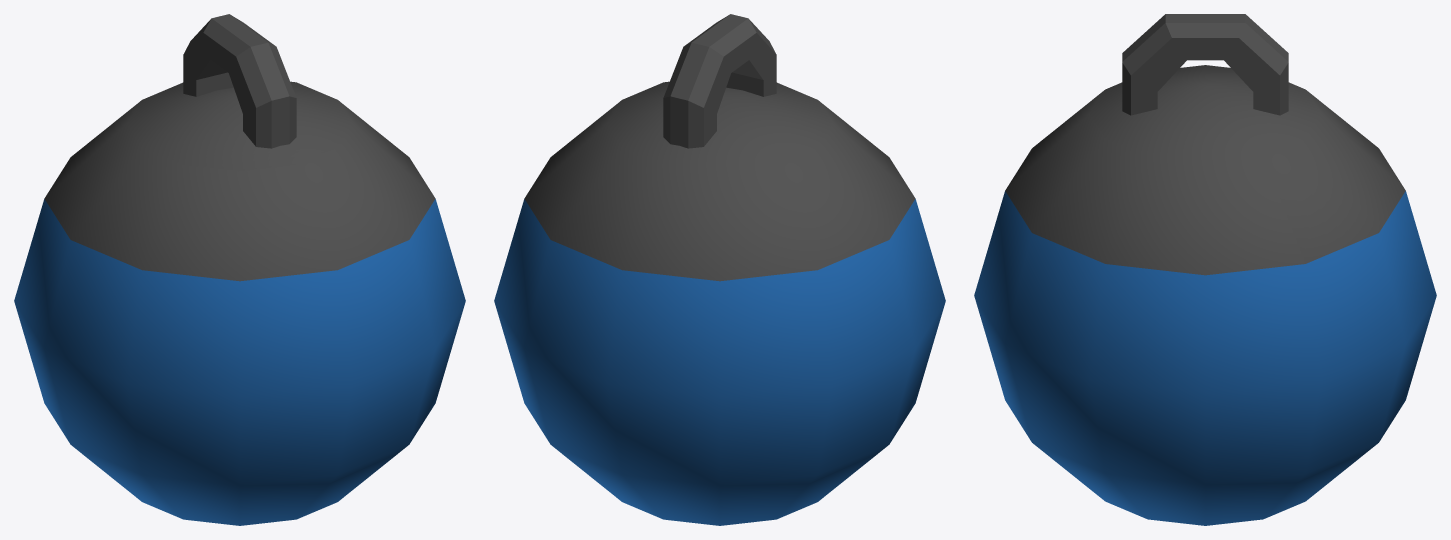
Rendered from prop_44.FBX.
3 renders of one model, left to right at view 1: azimuth 30°, elevation 25°; view 2: azimuth 150°, elevation 25°; view 3: azimuth 270°, elevation 25°, orthographic. The views are drawn at different scales.
Visible parts, largest first — view 1: prop_44; view 2: prop_44; view 3: prop_44.
Boxes of the visible parts, left/top/right/bottom form: prop_44: left=14, top=14, right=465, bottom=525; prop_44: left=494, top=14, right=945, bottom=525; prop_44: left=974, top=14, right=1436, bottom=525.
Bounding box in the file's own units: 21.11 × 24.5 × 21.11.
